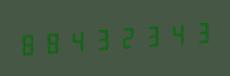eight: (17, 26, 40, 61), (41, 25, 64, 59)
four: (161, 16, 184, 51), (65, 23, 88, 57)
three: (89, 21, 112, 56), (137, 18, 160, 52), (185, 15, 208, 49)
two: (113, 20, 136, 54)
